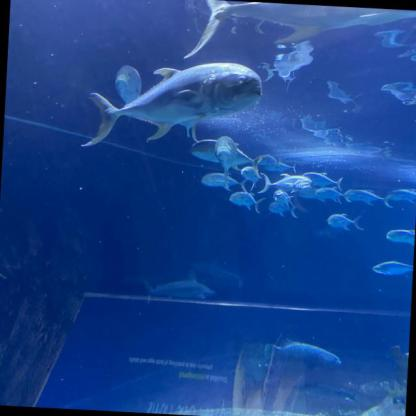fish: (78, 55, 265, 157), (266, 338, 342, 370), (255, 170, 312, 195), (214, 136, 252, 173), (252, 152, 299, 176), (344, 186, 393, 206), (302, 170, 344, 191), (227, 190, 266, 212), (371, 258, 413, 278), (199, 172, 246, 189), (324, 212, 365, 231), (310, 186, 348, 205), (384, 185, 416, 207), (271, 187, 298, 210), (386, 226, 414, 247), (267, 203, 299, 218)
shark: (172, 0, 415, 77), (143, 275, 215, 305), (189, 258, 244, 286)
